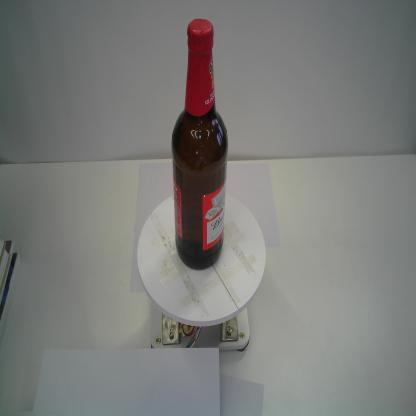Alcohol: (169, 16, 230, 271)
